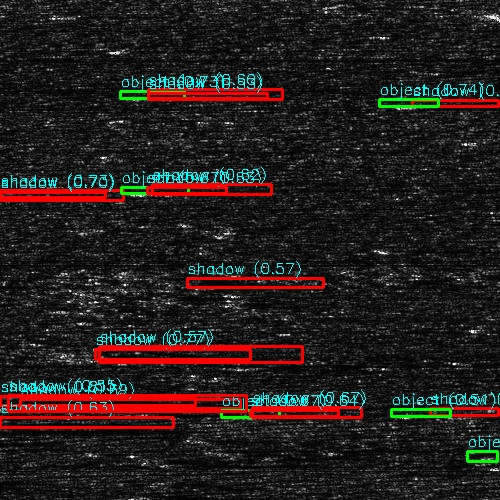rock: (169, 277, 232, 290), (370, 101, 433, 108), (462, 450, 500, 461), (110, 189, 173, 194), (142, 93, 195, 98), (126, 493, 167, 498), (451, 325, 492, 330), (484, 462, 500, 467)
shadow: (201, 277, 331, 290), (0, 427, 161, 434), (0, 189, 83, 202), (0, 420, 142, 427), (0, 397, 177, 402), (402, 101, 500, 108), (147, 493, 281, 498), (169, 93, 300, 98), (0, 427, 38, 440), (0, 426, 81, 431), (142, 189, 206, 194), (0, 477, 23, 484), (472, 325, 500, 330)
